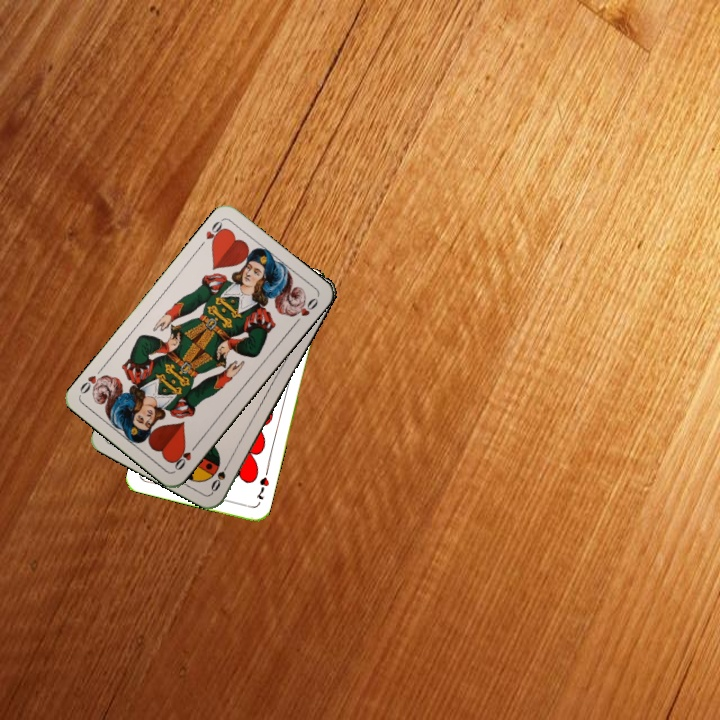H7: (252, 473, 272, 502)
HO: (195, 216, 228, 250), (170, 439, 201, 473)
SO: (207, 457, 232, 495)
